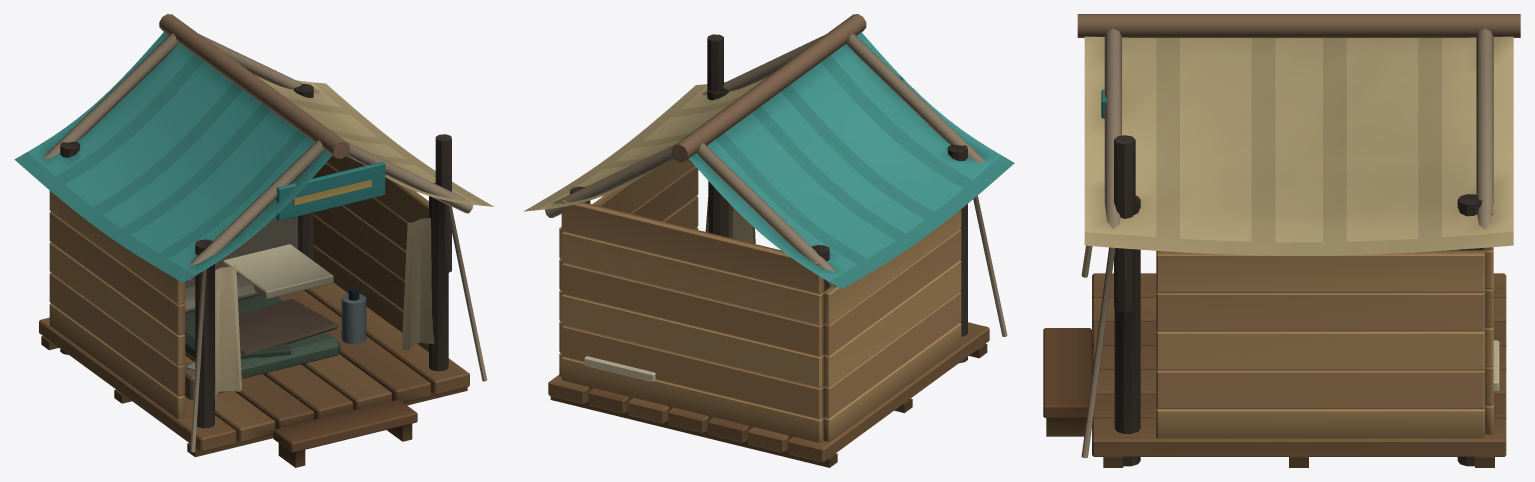
File: shelter.glb
The picture shows the model from 3 angles, left to right: view 1: azimuth 30°, elevation 25°; view 2: azimuth 150°, elevation 25°; view 3: azimuth 270°, elevation 25°; orthographic projection. The views are drawn at different scales.
Visible parts, largest first — view 1: shelter, roof; view 2: shelter, roof; view 3: roof, shelter.
Boxes of the visible parts, x1=… form: shelter: x1=39, y1=83, x2=487, y2=467; roof: x1=14, y1=14, x2=493, y2=282; shelter: x1=548, y1=34, x2=1007, y2=467; roof: x1=523, y1=14, x2=1014, y2=289; roof: x1=1077, y1=14, x2=1520, y2=255; shelter: x1=1043, y1=89, x2=1506, y2=467.
Bounding box in the file's own units: 3.2 × 2.97 × 3.34.
